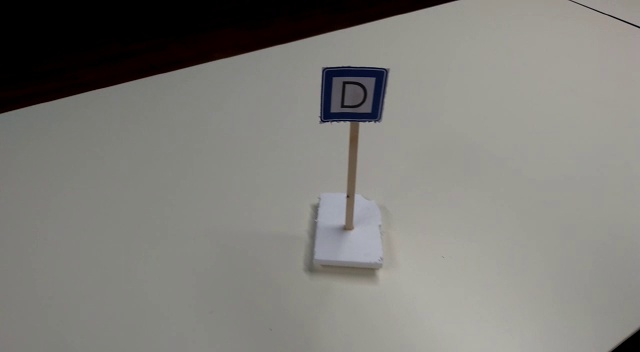durak: (318, 67, 388, 124)
